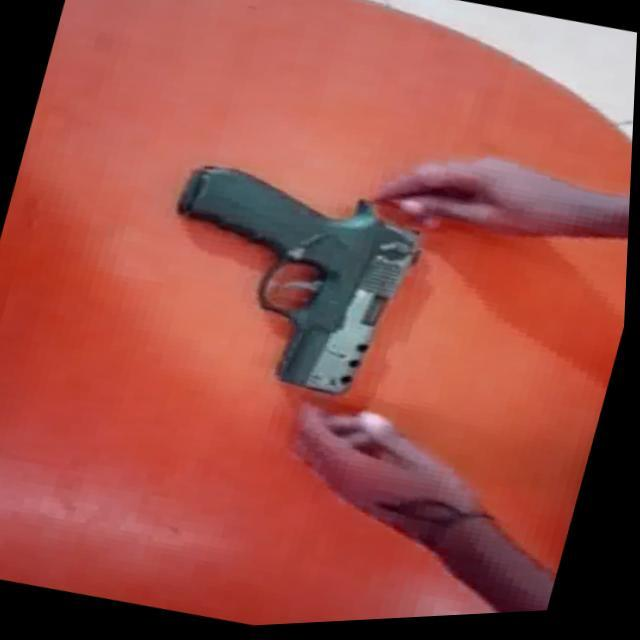weapon: (135, 150, 440, 418)
